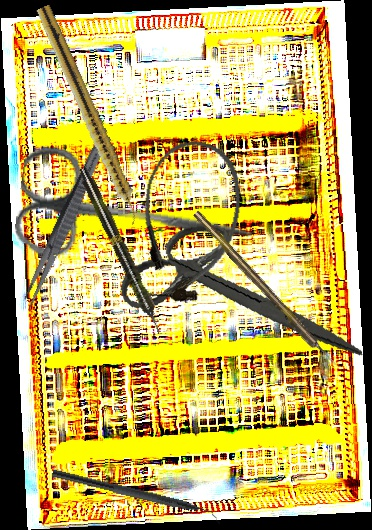Cannula: (124, 133, 253, 311)
Chopper: (48, 468, 225, 529)
Dressing Forceps: (17, 135, 111, 314)
Handpiece: (31, 3, 146, 228), (75, 165, 167, 337)
Hook Surgical: (192, 209, 338, 370)
Iris Scissors: (112, 201, 363, 392), (11, 143, 261, 285)
